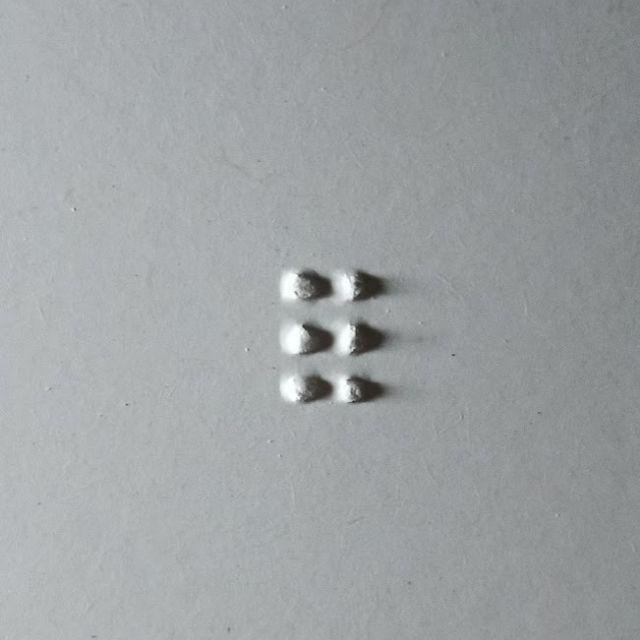mahal: (281, 267, 386, 405)
